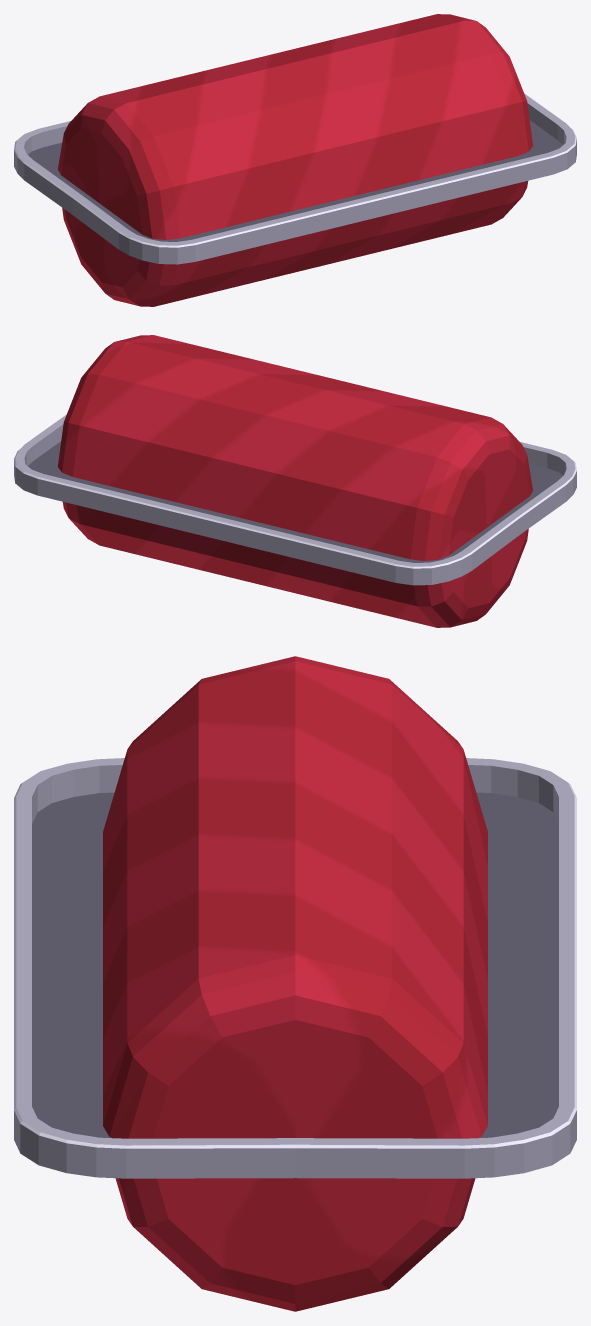
The model's file is Hurdle7.fbx.
3 renders of one model, top to bottom at view 1: azimuth 30°, elevation 25°; view 2: azimuth 150°, elevation 25°; view 3: azimuth 270°, elevation 25°, orthographic. The views are drawn at different scales.
Parts seen in each view (by area): view 1: Hurdle7; view 2: Hurdle7; view 3: Hurdle7.
Part boxes in pixels (left/top/right/bottom): Hurdle7: left=14, top=14, right=576, bottom=306; Hurdle7: left=14, top=335, right=576, bottom=627; Hurdle7: left=14, top=656, right=576, bottom=1311.
Size of the model in its own units: 2.13 by 0.8945 by 1.3.
1 material, 1 textured.
